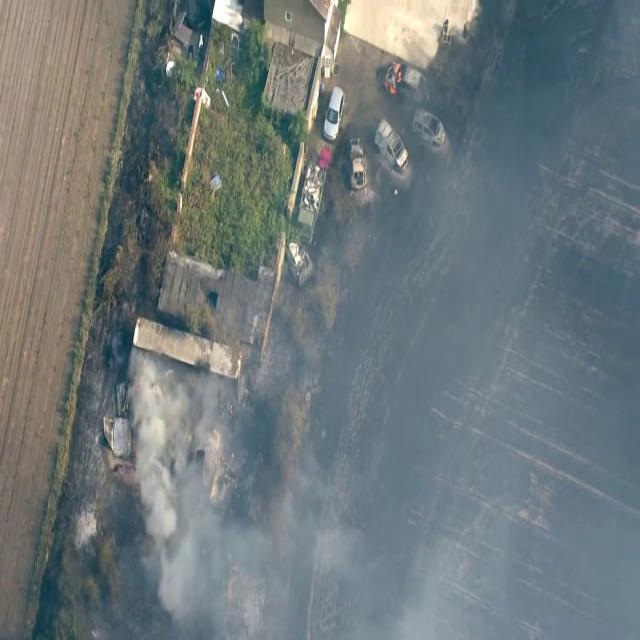Smoke: (131, 442, 186, 559), (125, 367, 186, 456)
